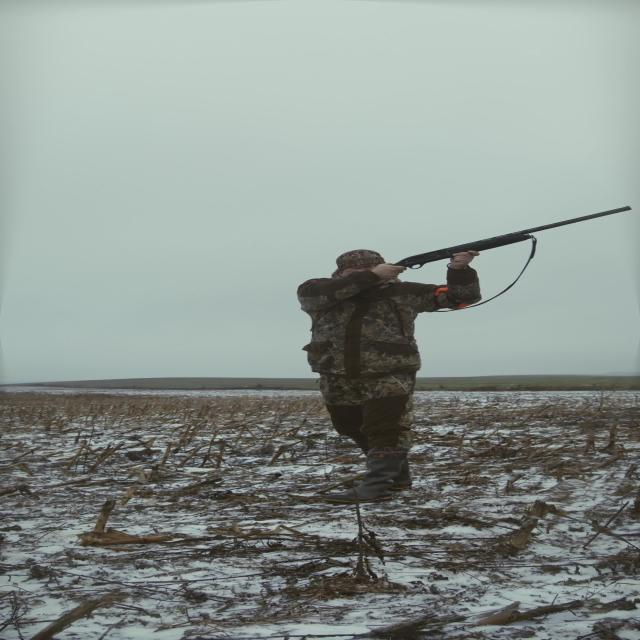poacher: (254, 225, 488, 488)
weapon: (396, 204, 640, 269)
